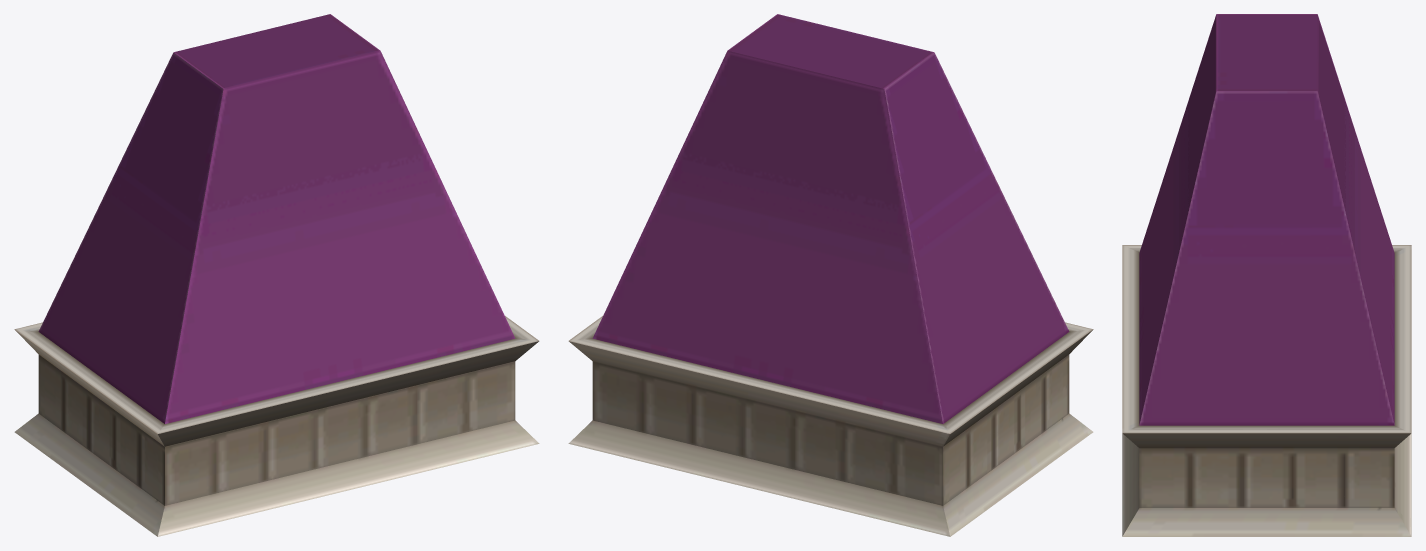
Rendered from furni_0200092_02.FBX.
3 views of the same model, side by side, from view 1: azimuth 30°, elevation 25°; view 2: azimuth 150°, elevation 25°; view 3: azimuth 270°, elevation 25° (orthographic).
Visible parts, largest first — view 1: furni_0200092_02; view 2: furni_0200092_02; view 3: furni_0200092_02.
Part boxes in pixels (bbox=[...]): furni_0200092_02: bbox=[14, 14, 539, 536]; furni_0200092_02: bbox=[568, 14, 1093, 536]; furni_0200092_02: bbox=[1122, 14, 1411, 536].
Bounding box in the file's own units: 80.17 × 77.5 × 52.11.
Materials: 1 (1 with a texture image).
